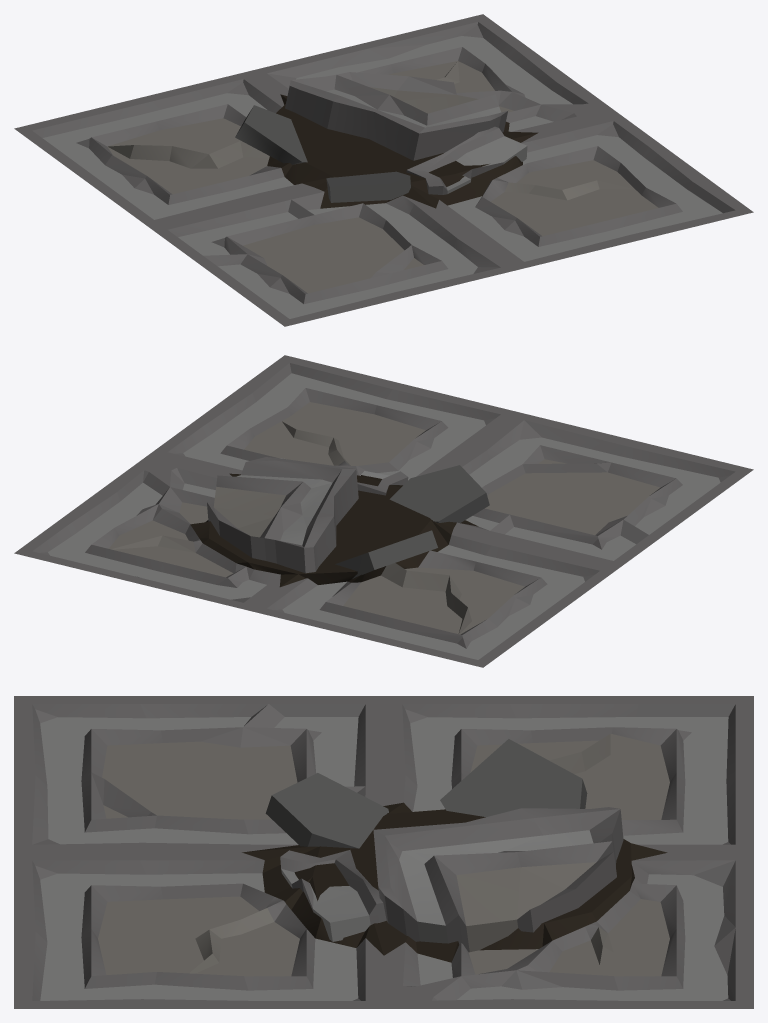
Rendered from SM_Env_Ceiling_Stone_Flat_06.FBX.
The picture shows the model from 3 angles, top to bottom: view 1: azimuth 30°, elevation 25°; view 2: azimuth 150°, elevation 25°; view 3: azimuth 270°, elevation 25°; orthographic projection. The views are drawn at different scales.
Visible parts, largest first — view 1: SM_Env_Ceiling_Stone_Flat_06; view 2: SM_Env_Ceiling_Stone_Flat_06; view 3: SM_Env_Ceiling_Stone_Flat_06.
Part boxes in pixels (<box>): SM_Env_Ceiling_Stone_Flat_06: <box>14,14,753,326</box>; SM_Env_Ceiling_Stone_Flat_06: <box>14,355,753,667</box>; SM_Env_Ceiling_Stone_Flat_06: <box>14,696,753,1008</box>.
Size of what is drawn, in the model's own units: 1000 by 1000 by 126.
